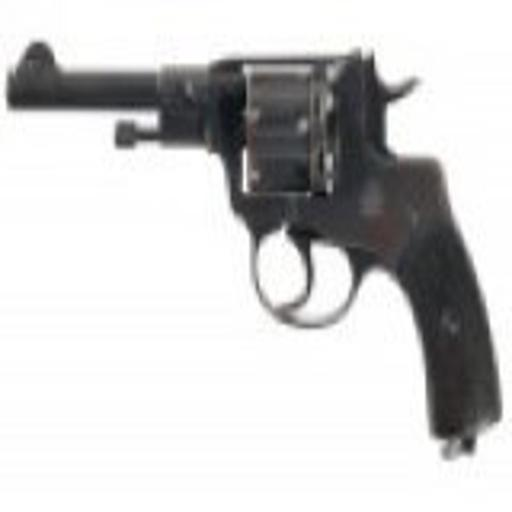Handgun: (5, 37, 504, 459)
